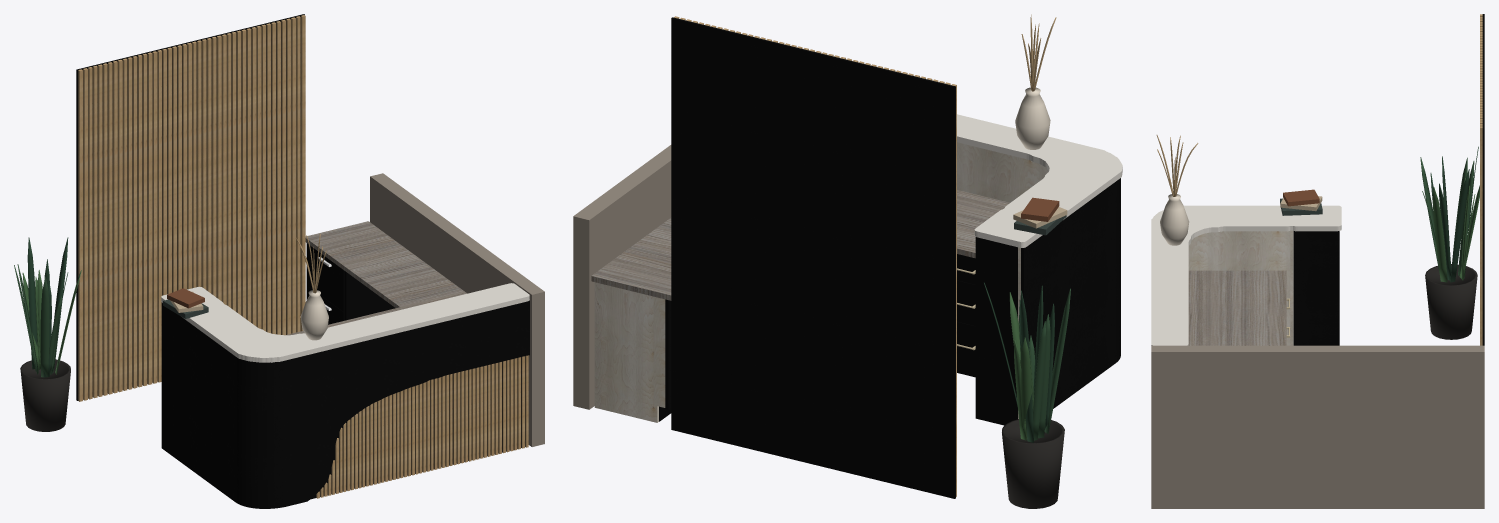
The model's file is reception-desk.glb.
3 renders of one model, left to right at view 1: azimuth 30°, elevation 25°; view 2: azimuth 150°, elevation 25°; view 3: azimuth 270°, elevation 25°, orthographic. The views are drawn at different scales.
Visible parts, largest first — view 1: reception-desk.001, mv_reception-desk_000; view 2: reception-desk.001, mv_reception-desk_003, mv_reception-desk_004; view 3: reception-desk.001.
Boxes of the visible parts, left/top/right/bottom form: reception-desk.001: left=14, top=14, right=544, bottom=508; mv_reception-desk_000: left=309, top=245, right=344, bottom=311; reception-desk.001: left=573, top=14, right=1122, bottom=508; mv_reception-desk_003: left=957, top=280, right=975, bottom=325; mv_reception-desk_004: left=957, top=321, right=975, bottom=366; reception-desk.001: left=1151, top=14, right=1484, bottom=508.
Size of the model in its own units: 2.89 by 2.43 by 2.16.
20 materials, 7 textured.
